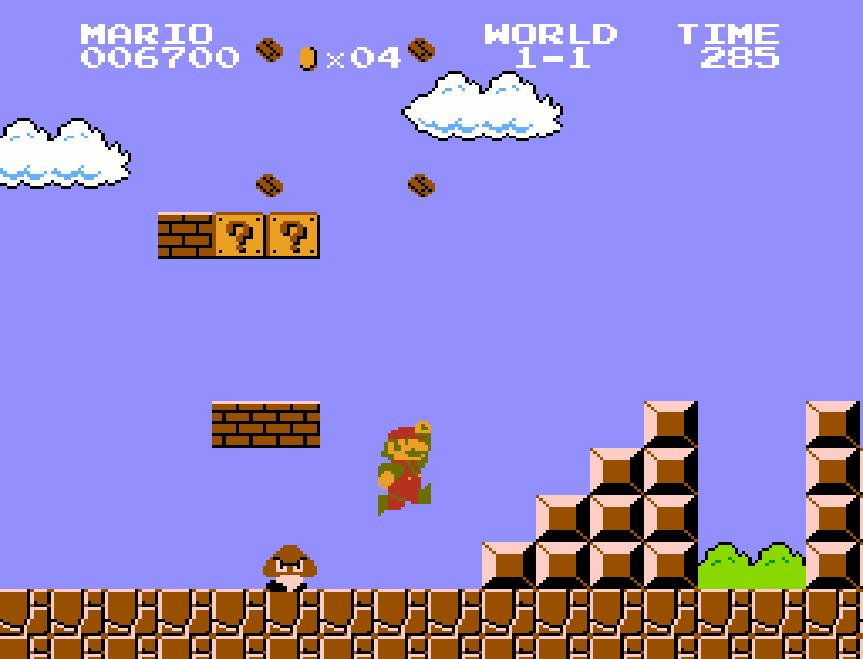big_mario: (376, 420, 434, 518)
